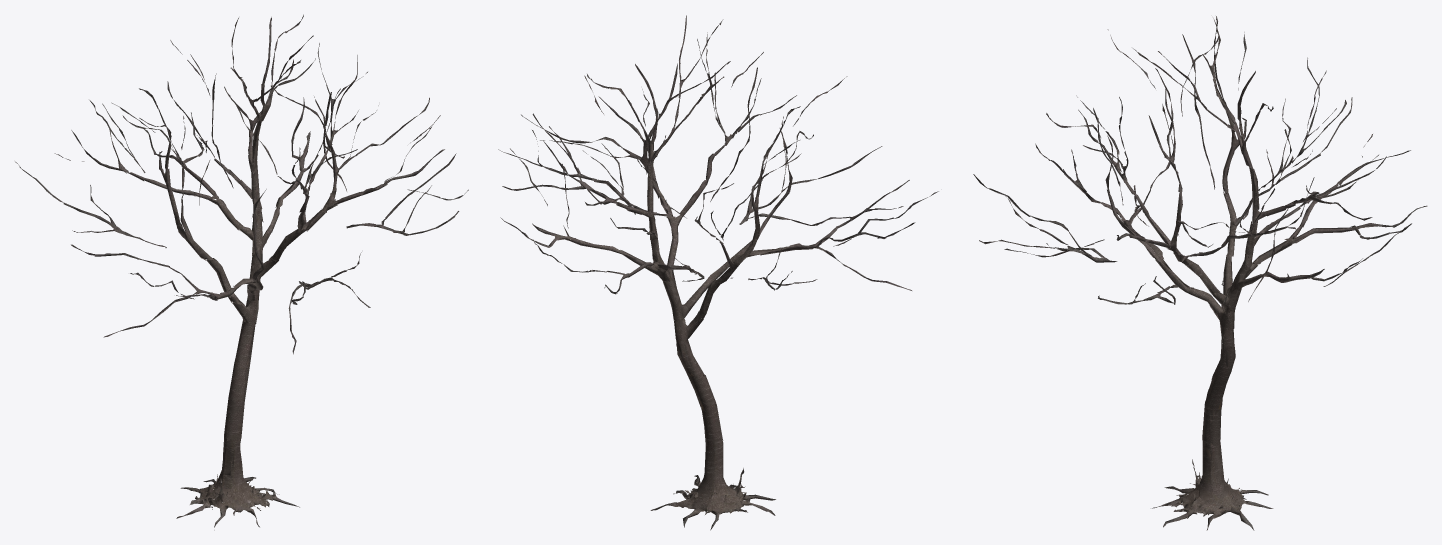
File: tree_winter_a.glb
The picture shows the model from 3 angles, left to right: view 1: azimuth 30°, elevation 25°; view 2: azimuth 150°, elevation 25°; view 3: azimuth 270°, elevation 25°; orthographic projection. The views are drawn at different scales.
Visible parts, largest first — view 1: Mesh_0; view 2: Mesh_0; view 3: Mesh_0.
Part boxes in pixels (x1,y1,x2,y2): Mesh_0: [15, 14, 468, 530]; Mesh_0: [498, 15, 938, 530]; Mesh_0: [973, 16, 1427, 530].
Bounding box in the file's own units: 6.68 × 7.99 × 6.59.
1 material, 1 textured.
